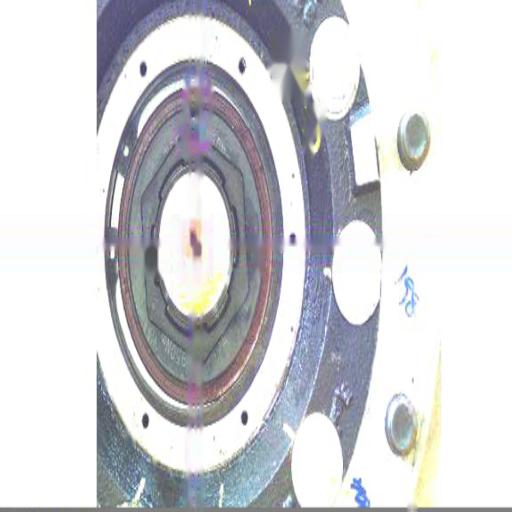center: (188, 236, 208, 266)
notch: (184, 94, 202, 130)
